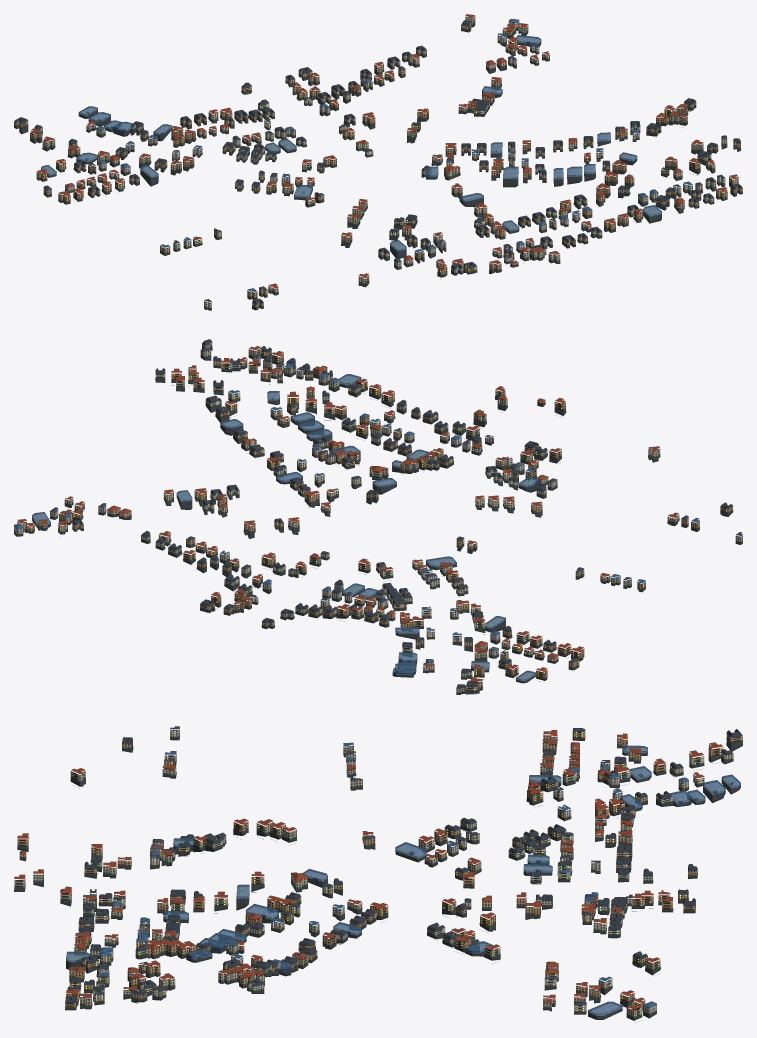
Rendered from osm_buildings_T_W02_N01_Q2.glb.
3 renders of one model, top to bottom at view 1: azimuth 30°, elevation 25°; view 2: azimuth 150°, elevation 25°; view 3: azimuth 270°, elevation 25°, orthographic. The views are drawn at different scales.
Visible parts, largest first — view 1: OSM_T_W02_N01_Q2_foundation, OSM_T_W02_N01_Q2_wall_french_ochre, OSM_T_W02_N01_Q2_wall_cream_stucco, OSM_T_W02_N01_Q2_roof_terracotta, OSM_T_W02_N01_Q2_roof_mansard_slate, OSM_T_W02_N01_Q2_greenhouse_blend, OSM_T_W02_N01_Q2_roof_mansard_deck, OSM_T_W02_N01_Q2_roof_mint_metal, OSM_T_W02_N01_Q2_wall_warm_white, OSM_T_W02_N01_Q2_trim_cornice, OSM_T_W02_N01_Q2_wall_pastel_sand, OSM_T_W02_N01_Q2_roof_alpine_blue; view 2: OSM_T_W02_N01_Q2_foundation, OSM_T_W02_N01_Q2_wall_french_ochre, OSM_T_W02_N01_Q2_wall_cream_stucco, OSM_T_W02_N01_Q2_roof_terracotta, OSM_T_W02_N01_Q2_roof_mansard_slate, OSM_T_W02_N01_Q2_greenhouse_blend, OSM_T_W02_N01_Q2_roof_mansard_deck, OSM_T_W02_N01_Q2_roof_mint_metal, OSM_T_W02_N01_Q2_wall_warm_white, OSM_T_W02_N01_Q2_wall_pastel_sand, OSM_T_W02_N01_Q2_balcony_railing, OSM_T_W02_N01_Q2_roof_alpine_blue (+1 smaller); view 3: OSM_T_W02_N01_Q2_foundation, OSM_T_W02_N01_Q2_wall_french_ochre, OSM_T_W02_N01_Q2_wall_cream_stucco, OSM_T_W02_N01_Q2_roof_terracotta, OSM_T_W02_N01_Q2_roof_mansard_slate, OSM_T_W02_N01_Q2_greenhouse_blend, OSM_T_W02_N01_Q2_roof_mansard_deck, OSM_T_W02_N01_Q2_trim_cornice, OSM_T_W02_N01_Q2_wall_warm_white, OSM_T_W02_N01_Q2_roof_mint_metal, OSM_T_W02_N01_Q2_roof_alpine_blue, OSM_T_W02_N01_Q2_wall_pastel_sand (+2 smaller).
Part boxes in pixels (left/top/right/bottom): OSM_T_W02_N01_Q2_foundation: left=14, top=22, right=742, bottom=310; OSM_T_W02_N01_Q2_wall_french_ochre: left=14, top=22, right=742, bottom=307; OSM_T_W02_N01_Q2_wall_cream_stucco: left=34, top=16, right=738, bottom=292; OSM_T_W02_N01_Q2_roof_terracotta: left=30, top=14, right=737, bottom=288; OSM_T_W02_N01_Q2_roof_mansard_slate: left=14, top=20, right=742, bottom=304; OSM_T_W02_N01_Q2_greenhouse_blend: left=41, top=35, right=661, bottom=251; OSM_T_W02_N01_Q2_roof_mansard_deck: left=16, top=20, right=741, bottom=302; OSM_T_W02_N01_Q2_roof_mint_metal: left=14, top=24, right=741, bottom=308; OSM_T_W02_N01_Q2_wall_warm_white: left=125, top=44, right=682, bottom=308; OSM_T_W02_N01_Q2_trim_cornice: left=16, top=16, right=742, bottom=306; OSM_T_W02_N01_Q2_wall_pastel_sand: left=65, top=20, right=725, bottom=264; OSM_T_W02_N01_Q2_roof_alpine_blue: left=97, top=19, right=692, bottom=291; OSM_T_W02_N01_Q2_foundation: left=14, top=346, right=742, bottom=694; OSM_T_W02_N01_Q2_wall_french_ochre: left=25, top=342, right=732, bottom=690; OSM_T_W02_N01_Q2_wall_cream_stucco: left=17, top=348, right=679, bottom=692; OSM_T_W02_N01_Q2_roof_terracotta: left=18, top=346, right=678, bottom=683; OSM_T_W02_N01_Q2_roof_mansard_slate: left=50, top=340, right=742, bottom=688; OSM_T_W02_N01_Q2_greenhouse_blend: left=32, top=374, right=540, bottom=680; OSM_T_W02_N01_Q2_roof_mansard_deck: left=37, top=339, right=731, bottom=686; OSM_T_W02_N01_Q2_roof_mint_metal: left=24, top=347, right=731, bottom=692; OSM_T_W02_N01_Q2_wall_warm_white: left=50, top=368, right=742, bottom=641; OSM_T_W02_N01_Q2_wall_pastel_sand: left=14, top=355, right=558, bottom=670; OSM_T_W02_N01_Q2_balcony_railing: left=17, top=350, right=726, bottom=694; OSM_T_W02_N01_Q2_roof_alpine_blue: left=14, top=363, right=699, bottom=662; OSM_T_W02_N01_Q2_foundation: left=14, top=735, right=742, bottom=1020; OSM_T_W02_N01_Q2_wall_french_ochre: left=17, top=730, right=742, bottom=1008; OSM_T_W02_N01_Q2_wall_cream_stucco: left=14, top=752, right=733, bottom=1017; OSM_T_W02_N01_Q2_roof_terracotta: left=14, top=730, right=722, bottom=1009; OSM_T_W02_N01_Q2_roof_mansard_slate: left=65, top=726, right=742, bottom=1005; OSM_T_W02_N01_Q2_greenhouse_blend: left=66, top=745, right=740, bottom=1015; OSM_T_W02_N01_Q2_roof_mansard_deck: left=66, top=729, right=740, bottom=1015; OSM_T_W02_N01_Q2_trim_cornice: left=15, top=730, right=742, bottom=1021; OSM_T_W02_N01_Q2_wall_warm_white: left=99, top=728, right=631, bottom=1011; OSM_T_W02_N01_Q2_roof_mint_metal: left=14, top=742, right=742, bottom=1018; OSM_T_W02_N01_Q2_roof_alpine_blue: left=97, top=742, right=688, bottom=1007; OSM_T_W02_N01_Q2_wall_pastel_sand: left=89, top=746, right=704, bottom=1013.
Size of the model in its own units: 992 by 116 by 939.
16 materials, 16 textured.
